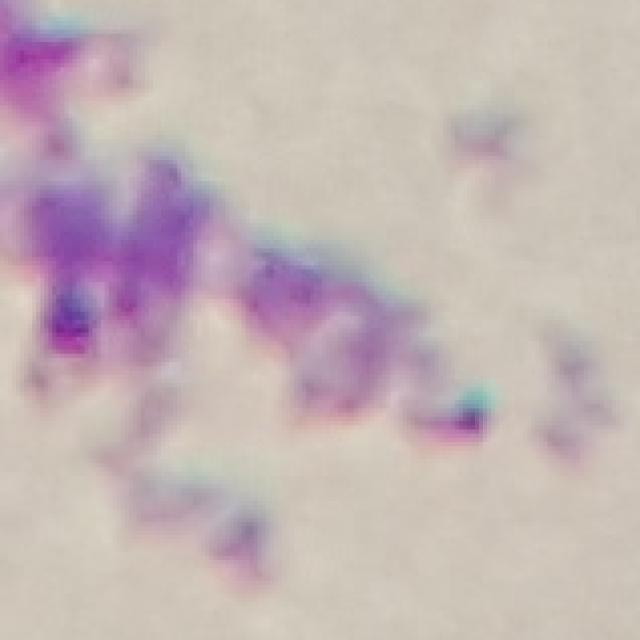non-sperm: (23, 148, 514, 473)
